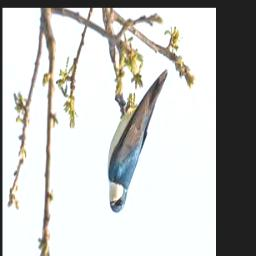Swallow: (104, 67, 171, 220)
